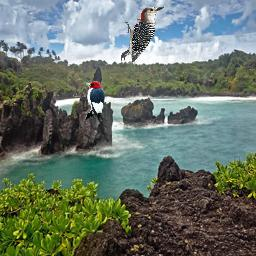Woodpecker: (121, 6, 165, 62), (84, 80, 105, 122)
